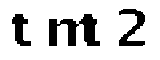2: (115, 5, 147, 48)
m: (46, 18, 92, 50)
t: (8, 12, 33, 51), (82, 10, 100, 48)
